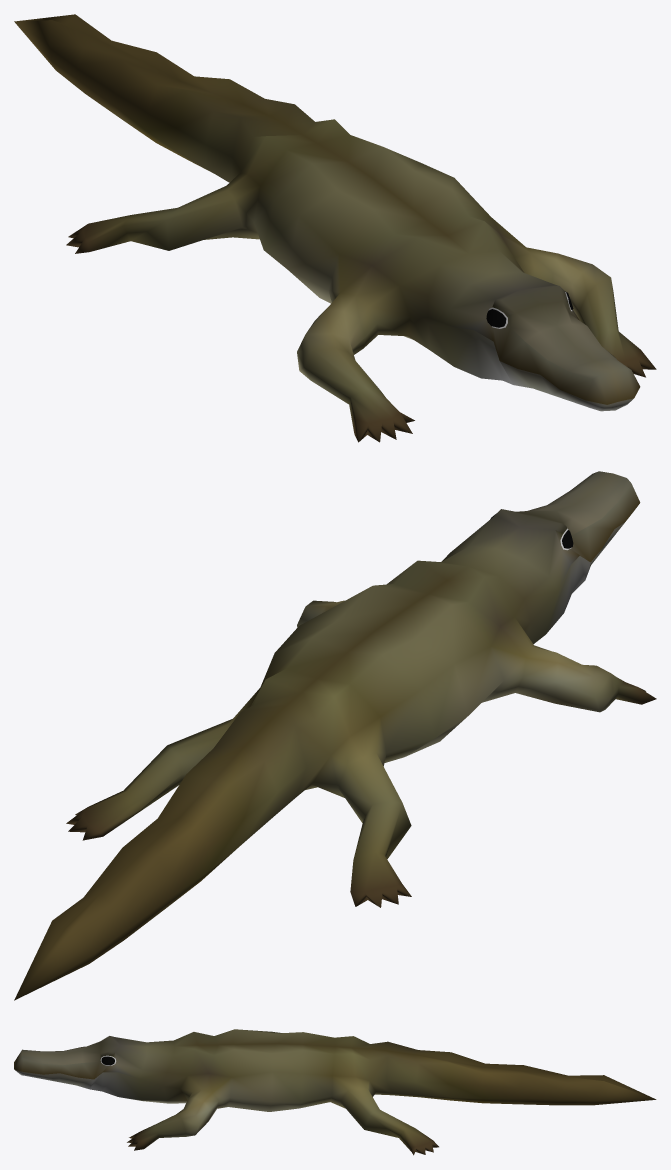
The model's file is Alligator.gltf.
3 renders of one model, top to bottom at view 1: azimuth 30°, elevation 25°; view 2: azimuth 150°, elevation 25°; view 3: azimuth 270°, elevation 25°, orthographic. The views are drawn at different scales.
Visible parts, largest first — view 1: base.116; view 2: base.116; view 3: base.116.
Boxes of the visible parts, box(x1,y1,x2,y2) form: base.116: box(14, 14, 656, 442); base.116: box(14, 471, 656, 1000); base.116: box(14, 1029, 656, 1155).
Bounding box in the file's own units: 1.73 × 0.6729 × 5.4.
